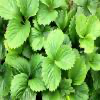Strawberry leaf: (27, 48, 52, 93), (4, 17, 31, 49), (43, 25, 65, 62), (42, 55, 62, 92), (56, 43, 76, 72), (36, 5, 59, 25), (78, 35, 96, 55), (85, 16, 100, 40), (76, 13, 87, 39)
